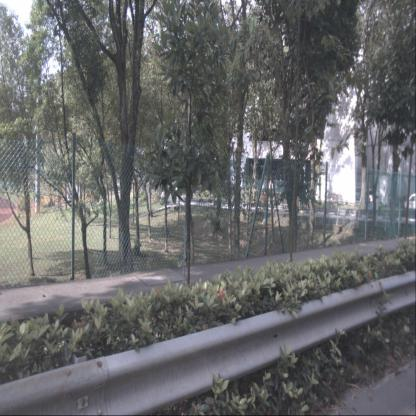human-pedestrian-adult: (276, 196, 279, 214)
vehicle-car: (404, 192, 416, 212), (353, 186, 367, 201)
